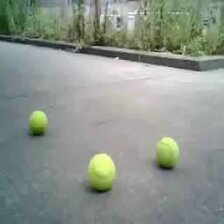tennis: (87, 154, 116, 189), (155, 136, 180, 167), (29, 111, 49, 136)
